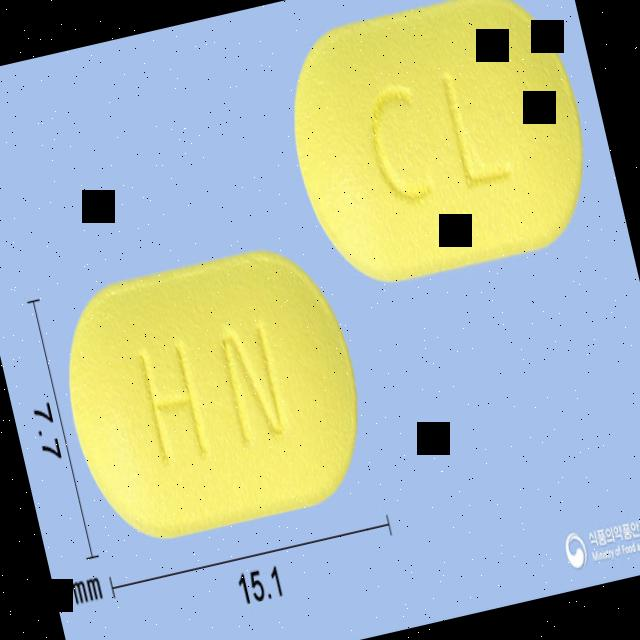Cyclin: (41, 228, 382, 552), (269, 0, 609, 302)
